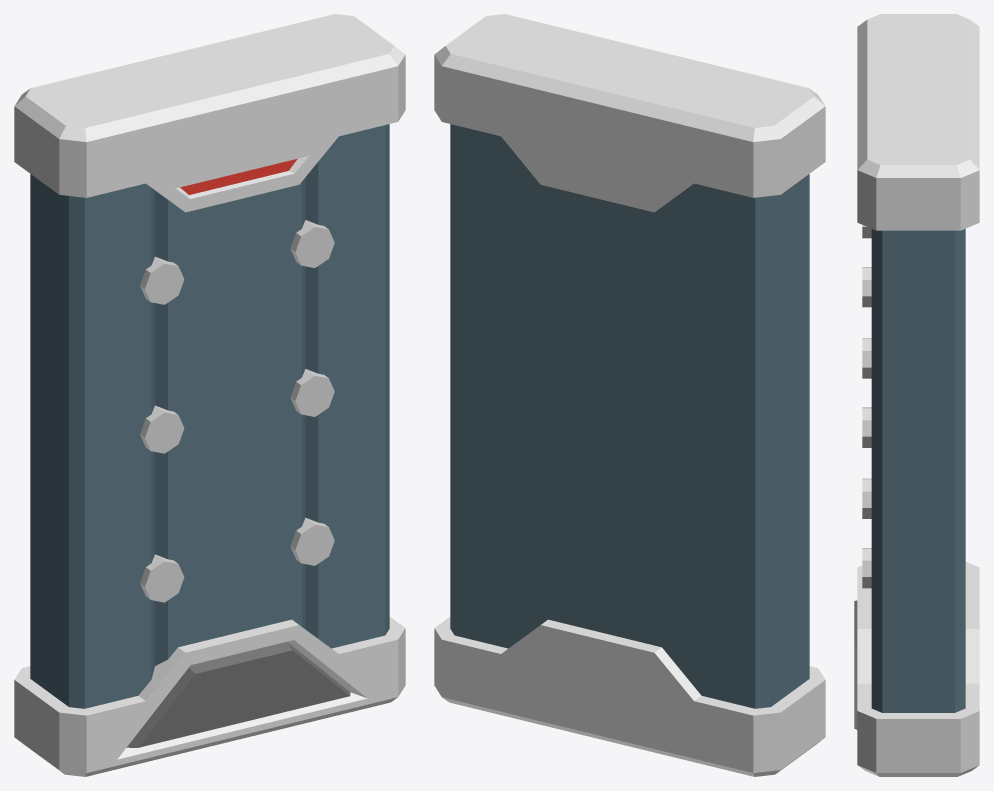
The model's file is space_station_decoration_010.fbx.
3 renders of one model, left to right at view 1: azimuth 30°, elevation 25°; view 2: azimuth 150°, elevation 25°; view 3: azimuth 270°, elevation 25°, orthographic. The views are drawn at different scales.
Visible parts, largest first — view 1: space_station_decoration_010; view 2: space_station_decoration_010; view 3: space_station_decoration_010.
Boxes of the visible parts, left/top/right/bottom form: space_station_decoration_010: left=14, top=14, right=405, bottom=776; space_station_decoration_010: left=434, top=14, right=825, bottom=776; space_station_decoration_010: left=854, top=14, right=979, bottom=776.
Bounding box in the file's own units: 174 × 57.82 × 311.
